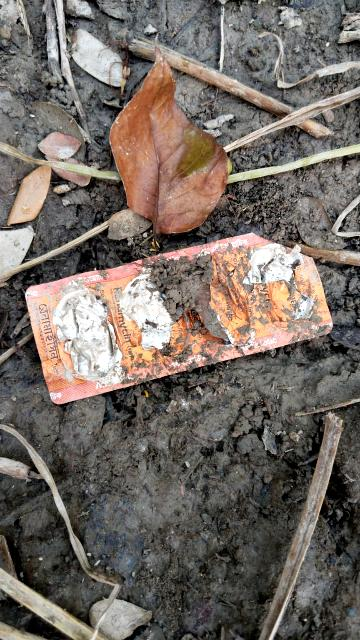medicine: (11, 198, 340, 415)
